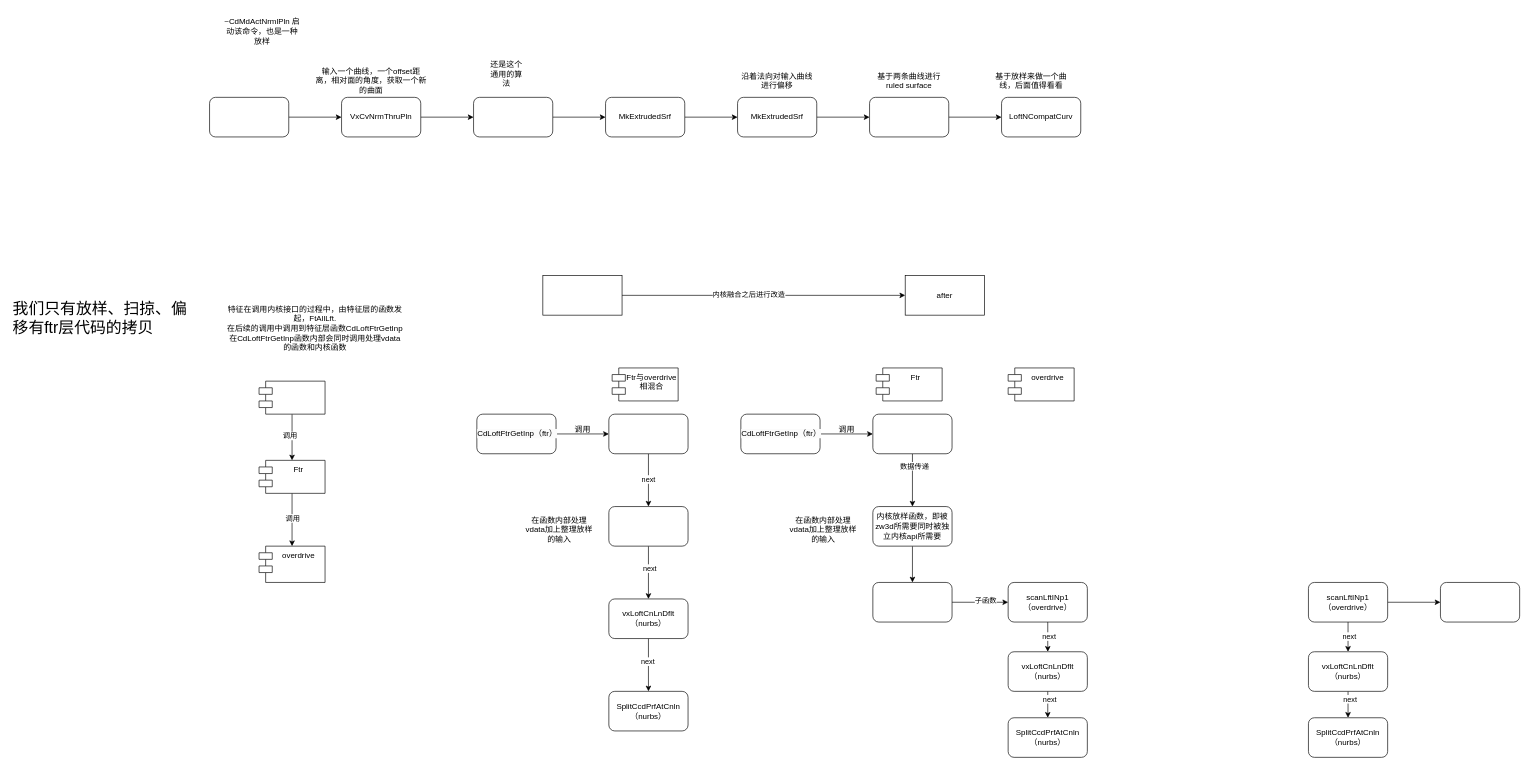
This 1531x769 diagram has some shape labels left out. The box of each missing label's shape, as (x1, y1, x2, y2) in pixels:
before: (542, 275, 622, 315)
CdSrfNrmlPln: (209, 97, 289, 137)
MkRuledSf: (869, 97, 949, 137)
scanLftINp1（ftr）: (608, 506, 688, 546)
VxNrbMkSrf: (473, 97, 553, 137)
zw3d: (258, 380, 325, 414)
放样函数（overdrive）: (872, 582, 952, 622)
获取vdata函数: (608, 413, 688, 454)
获取vdata函数,获取全部的放样信息: (872, 413, 952, 454)
